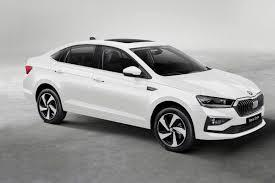skoda: (245, 87, 254, 96)
